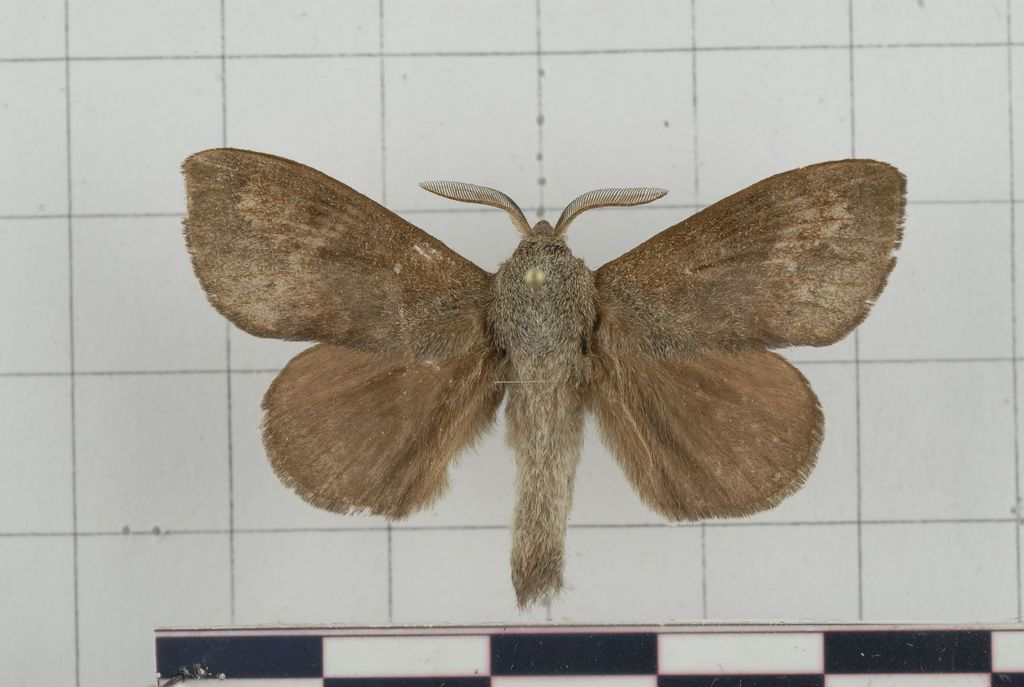Butterfly: (181, 132, 906, 610)
